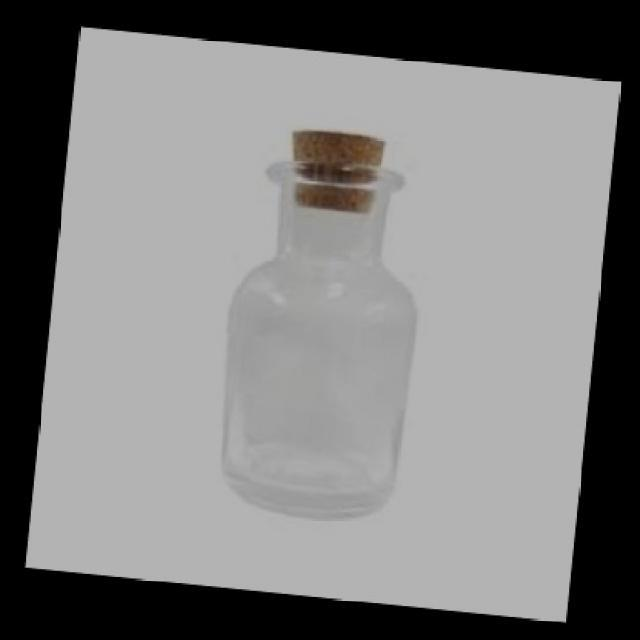Glass: (219, 130, 449, 522)
